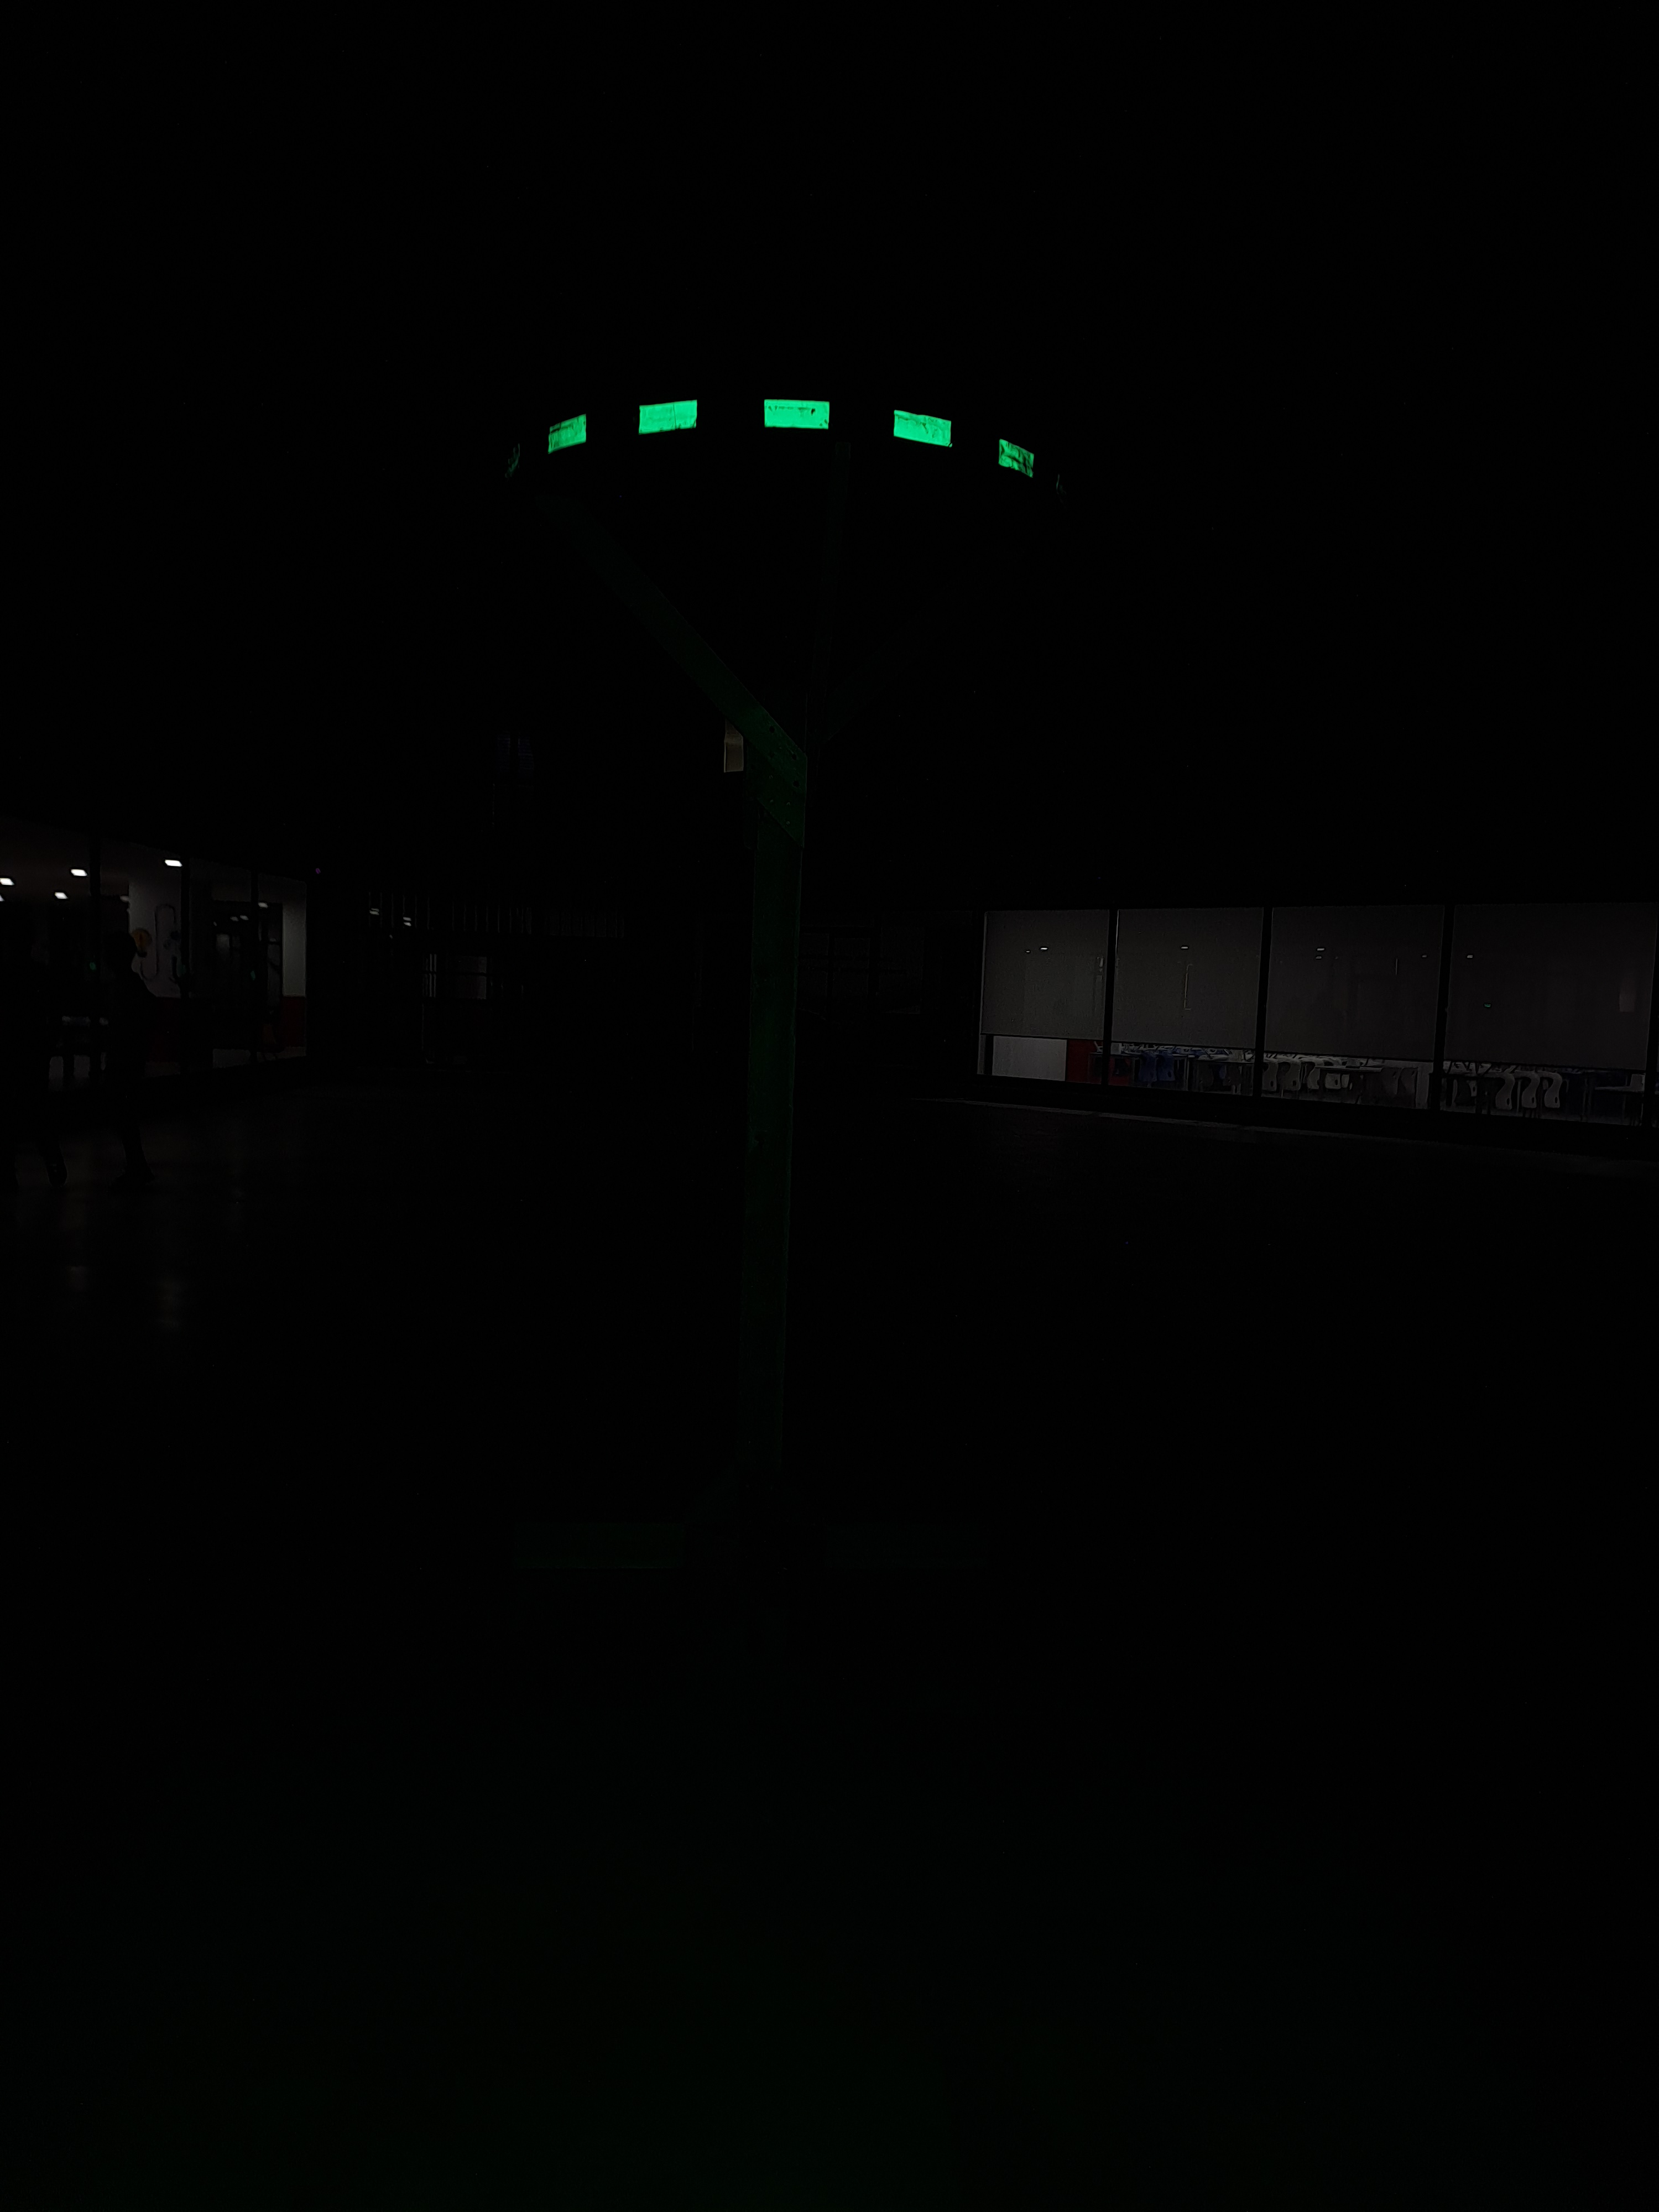hoop: (544, 390, 1044, 491)
